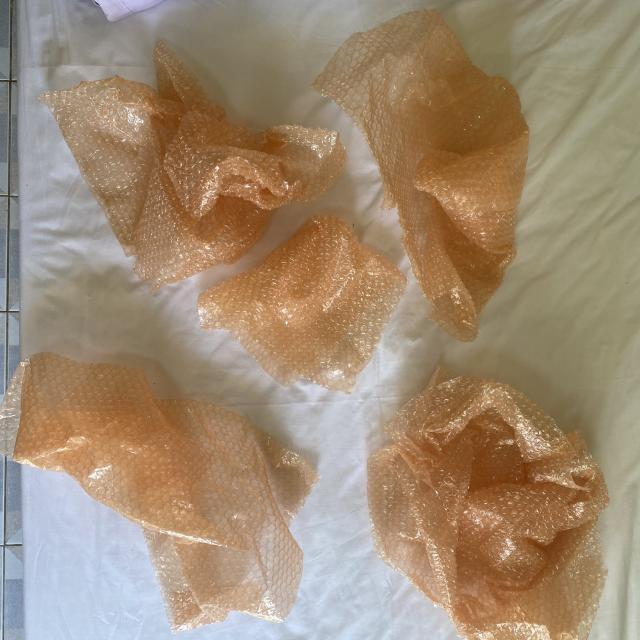Single-layer Plastic: (0, 352, 316, 632), (39, 41, 346, 291), (314, 10, 529, 341), (368, 370, 609, 640), (198, 215, 406, 392)
